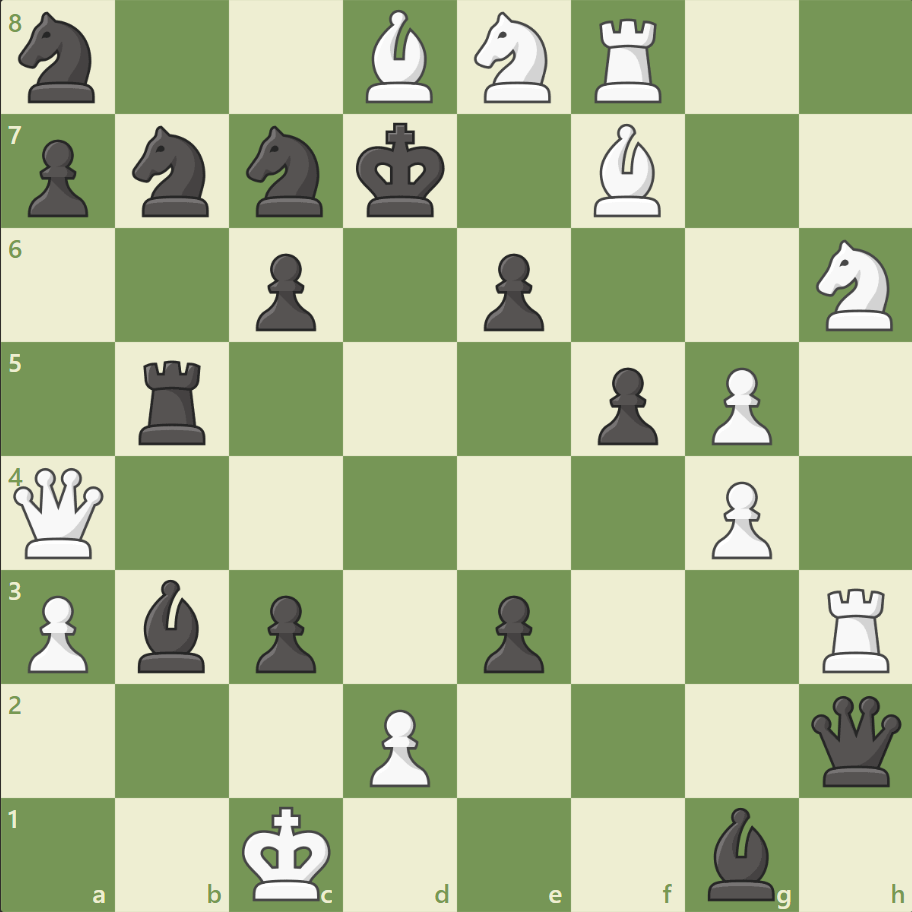B: (358, 6, 442, 109), (585, 120, 669, 222)
K: (238, 798, 338, 906)
N: (465, 7, 562, 110), (806, 234, 903, 337)
P: (701, 359, 776, 450), (701, 473, 776, 564), (20, 586, 95, 677), (361, 700, 435, 791)
Q: (10, 463, 109, 562)
R: (587, 12, 670, 109), (814, 579, 897, 676)
b: (698, 801, 782, 904), (131, 574, 215, 676)
k: (351, 117, 451, 225)
n: (124, 121, 222, 223), (11, 7, 108, 110), (238, 121, 335, 223)
p: (20, 132, 95, 223), (247, 246, 322, 337), (474, 246, 549, 337), (247, 586, 322, 677), (474, 586, 549, 677), (588, 359, 662, 450)
q: (805, 690, 904, 789)
r: (133, 352, 215, 449)
